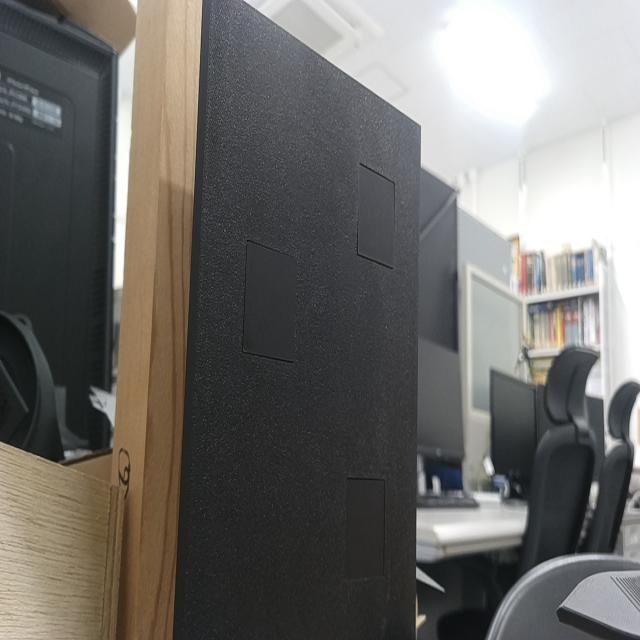Wall: (174, 0, 420, 639)
